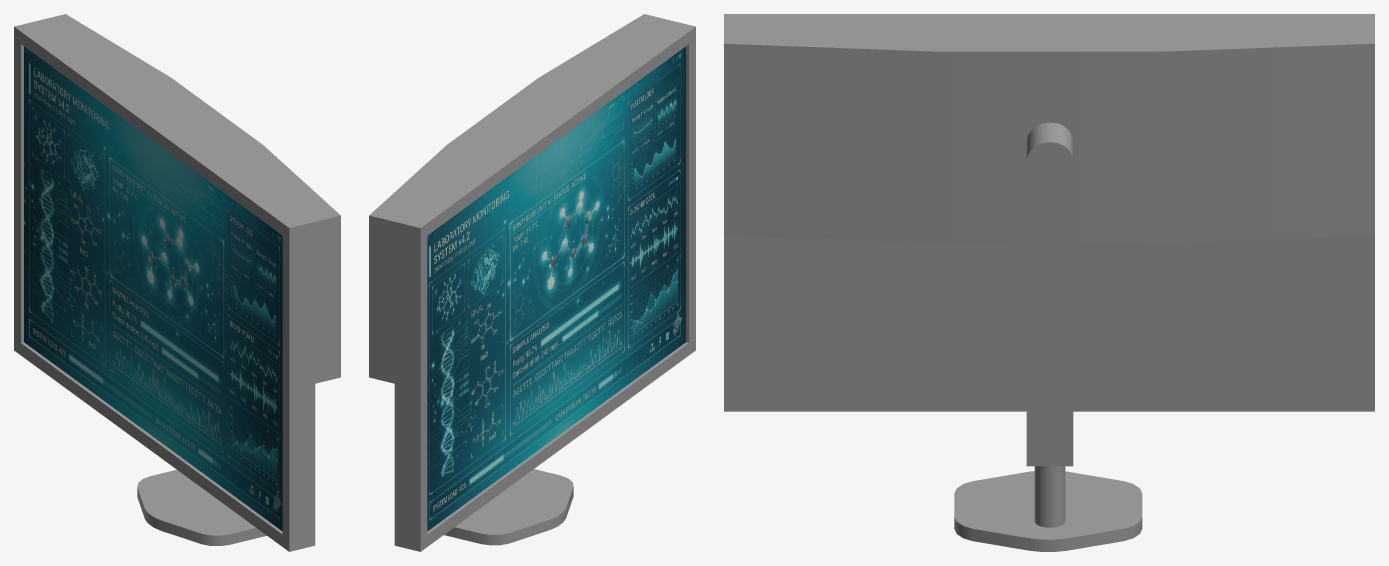
Rendered from F_Monitor.fbx.
3 views of the same model, side by side, from view 1: azimuth 30°, elevation 25°; view 2: azimuth 150°, elevation 25°; view 3: azimuth 270°, elevation 25° (orthographic). The views are drawn at different scales.
Parts seen in each view (by area): view 1: F_Monitor; view 2: F_Monitor; view 3: F_Monitor.
Boxes of the visible parts, x1,y1,x2,y2 form: F_Monitor: (14,14,340,551); F_Monitor: (369,14,695,551); F_Monitor: (724,14,1374,551).
Size of the model in its own units: 17.9 by 56.59 by 71.08.
1 material, 1 textured.
